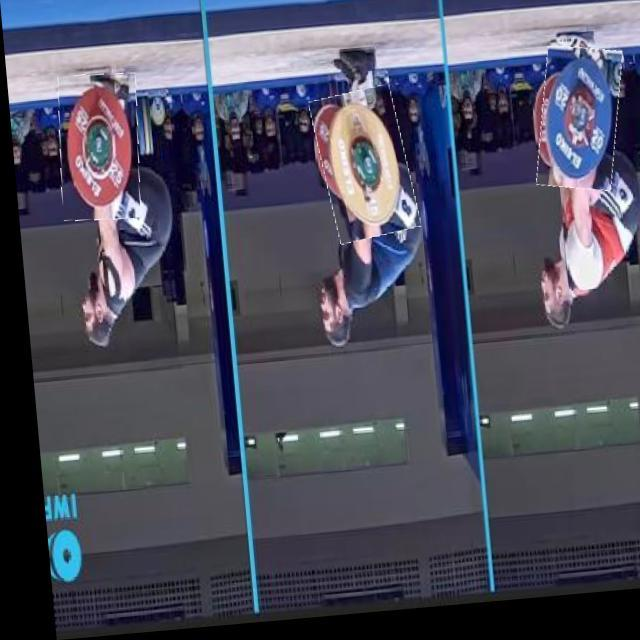barbell: (311, 94, 413, 250), (529, 55, 625, 205), (52, 74, 143, 224)
